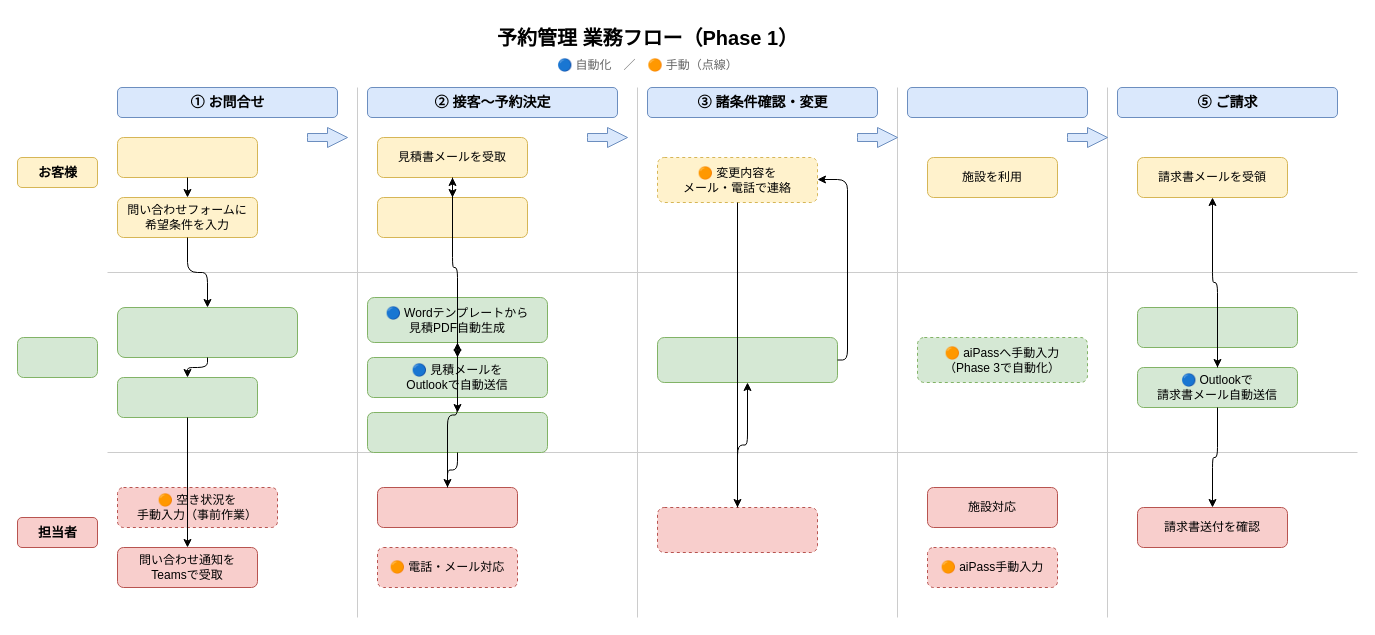
The diagram is 1375 pixels wide and 635 high, and some of its shapes have lost their labels. The shapes that lost their labels are listed below. From the top down, each one's box as (x1, y1, x2, y2) in pixels, then its label:
(906, 86, 1088, 118): ④ 利用
(116, 136, 258, 178): 空き状況を カレンダーで確認
(376, 196, 528, 238): 内容確認 → 予約確定連絡
(116, 306, 298, 358): 🔵 フォーム送信内容を Dataverseへ自動登録
(1136, 306, 1298, 348): 🔵 請求書PDF 自動生成
(16, 336, 98, 378): Power Platform
(656, 336, 838, 382): 🔵 更新トリガーで 見積書を自動再送信
(116, 376, 258, 418): 🔵 担当者へ Teams通知
(366, 412, 548, 452): 🔵 担当者へ Teams通知・承認フロー
(376, 486, 518, 528): 見積内容を 確認・承認
(656, 506, 818, 552): 🟠 管理画面で 変更内容を入力
